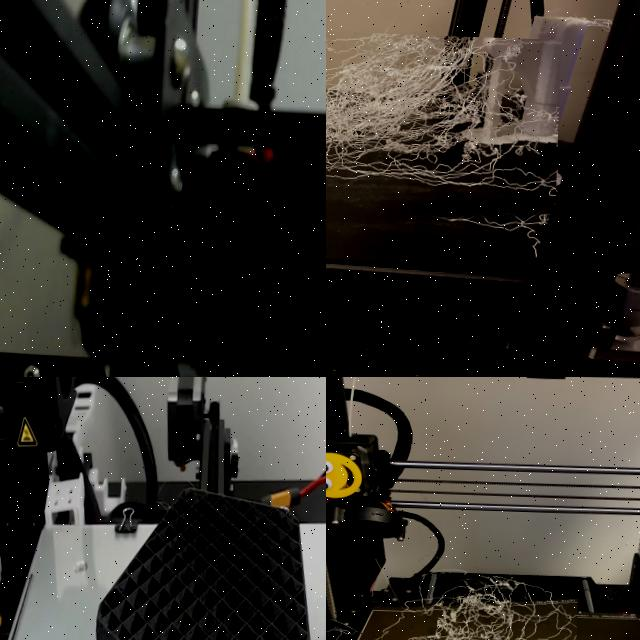spaghetti: (326, 21, 561, 256), (418, 574, 577, 640), (574, 9, 618, 36)
